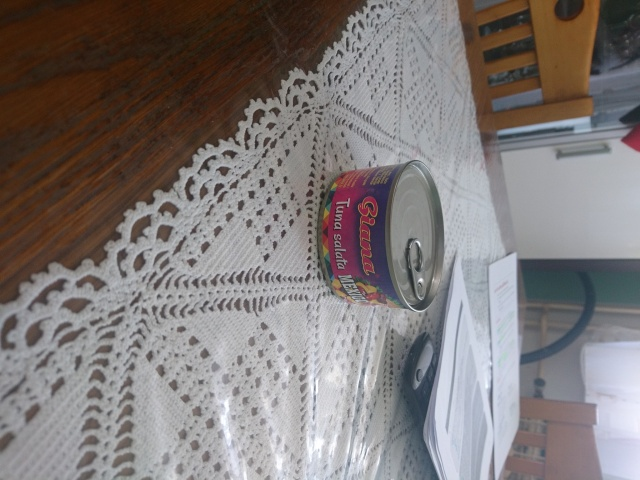Giana Tuna Salad Mexico 185g: (313, 157, 448, 316)
